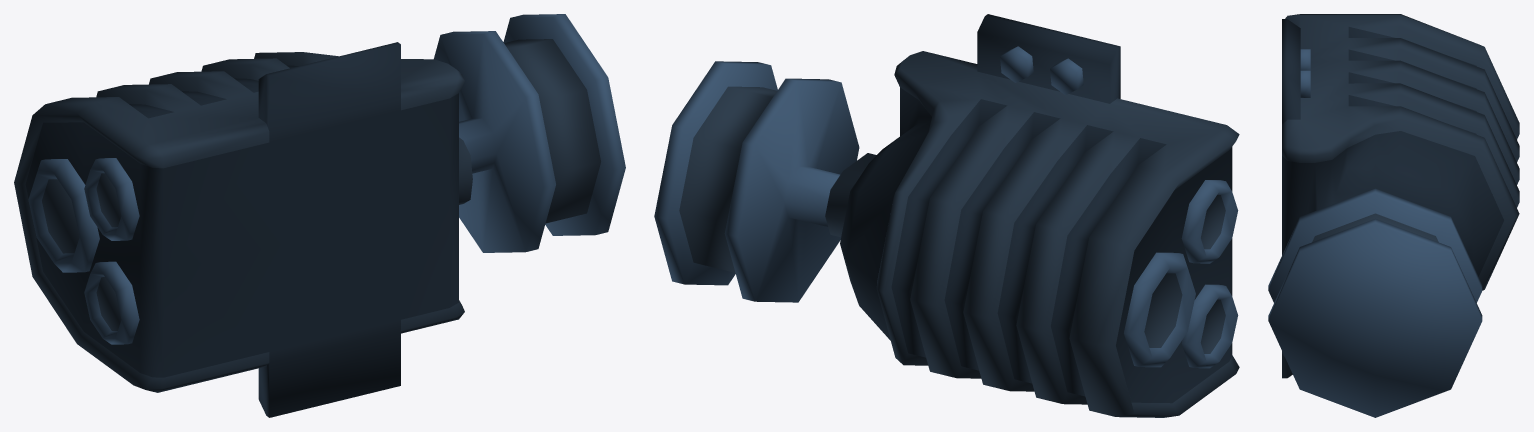
The model's file is Engine3.fbx.
3 renders of one model, left to right at view 1: azimuth 30°, elevation 25°; view 2: azimuth 150°, elevation 25°; view 3: azimuth 270°, elevation 25°, orthographic. The views are drawn at different scales.
Parts seen in each view (by area): view 1: Engine3; view 2: Engine3; view 3: Engine3.
Boxes of the visible parts, box(x1,y1,x2,y2) form: Engine3: box(14, 14, 625, 417); Engine3: box(654, 14, 1239, 417); Engine3: box(1268, 14, 1519, 417).
Bounding box in the file's own units: 0.669 × 0.4538 × 0.3415.
